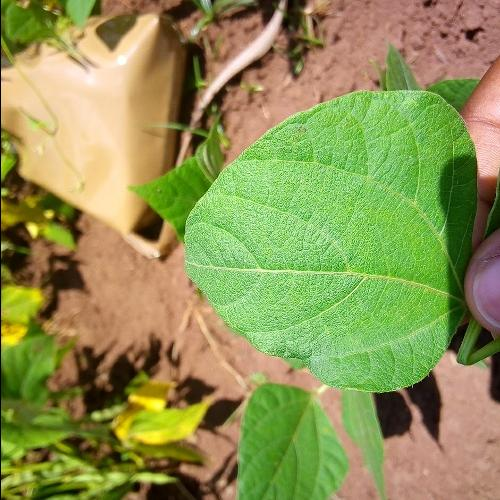sehat: (216, 134, 438, 374)
